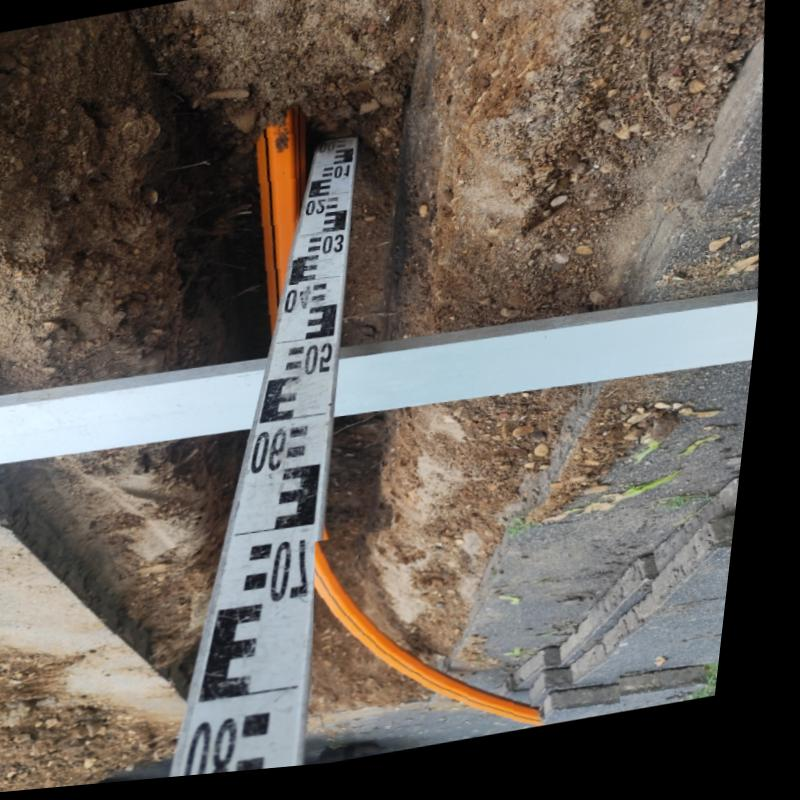Orang-Speednetrohrchen: (329, 554, 619, 736), (258, 111, 305, 342)
